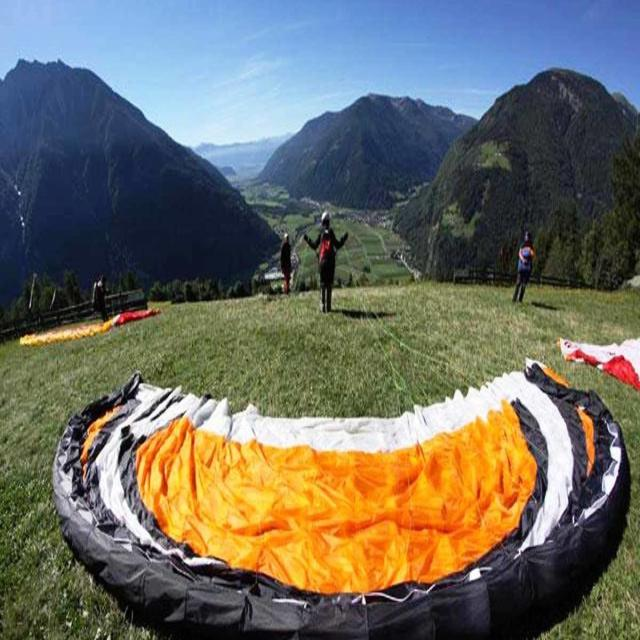paraglider: (52, 356, 631, 637)
